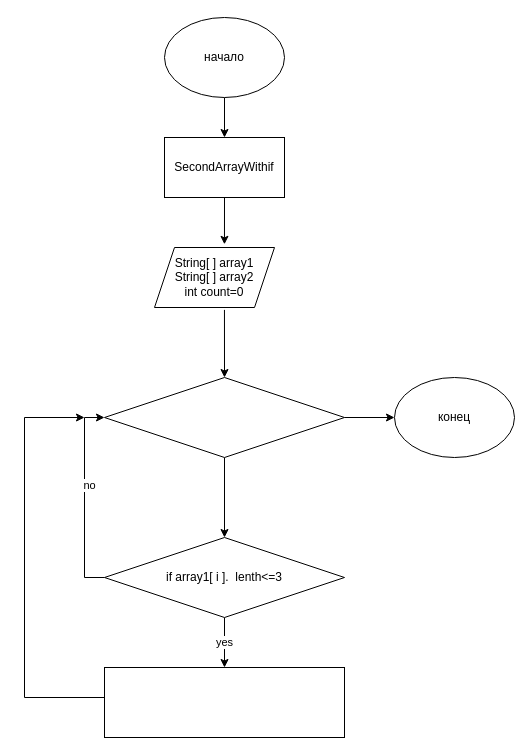
Image size: 532x755. Some labels were removed from this diagram. Each missing label, with the centre of its shape:
array2 [count] = array1 [ i ] count ++: point (224, 702)
for int i=0 i < array1.length i++: point (224, 417)
